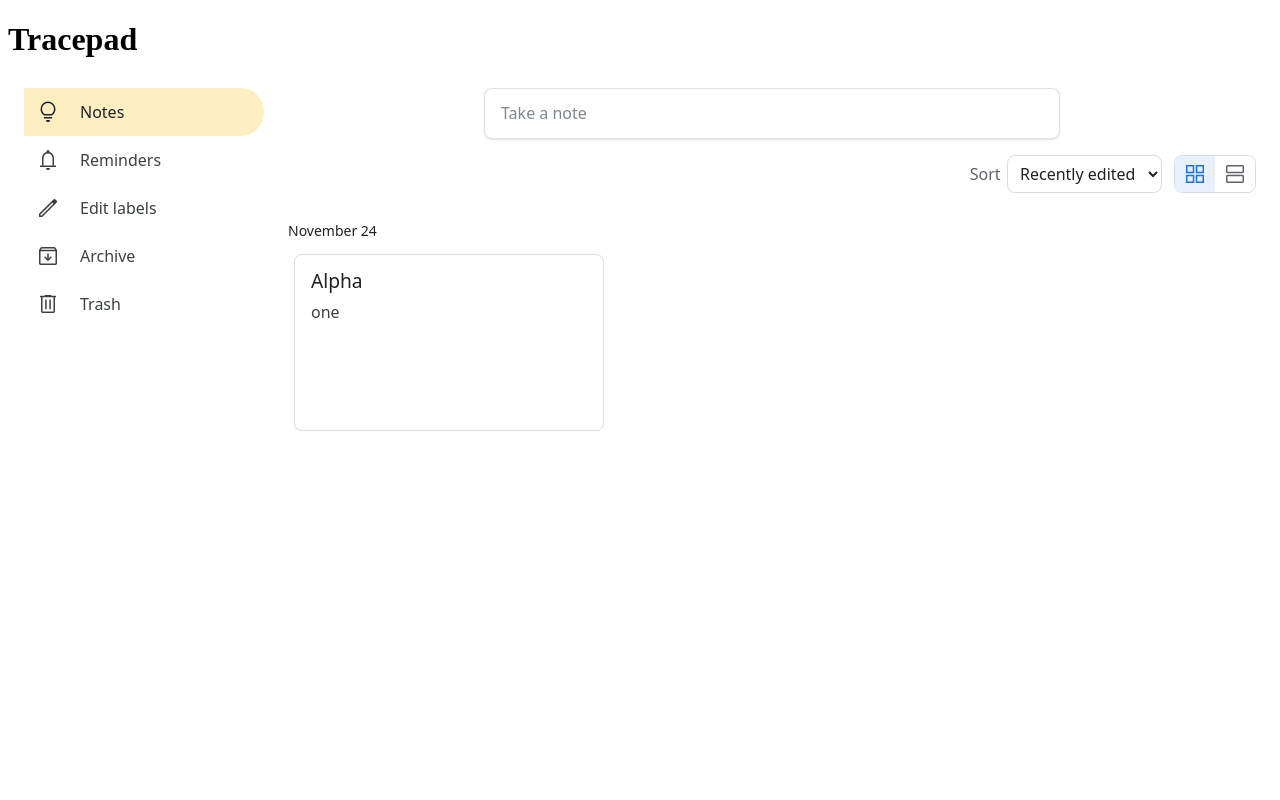
Test case: note ids stay off the page › renders the board without a note id in the HTML
This screenshot has width=1280, height=800.
Expected: the button "Take a note" is enabled, [484,88,1060,139]
Expected: the button with aria-label "Alpha, one" is shown, [294,254,604,431]
Step 1. Click the button named "List" → (1235, 174), box [1215,156,1255,192]
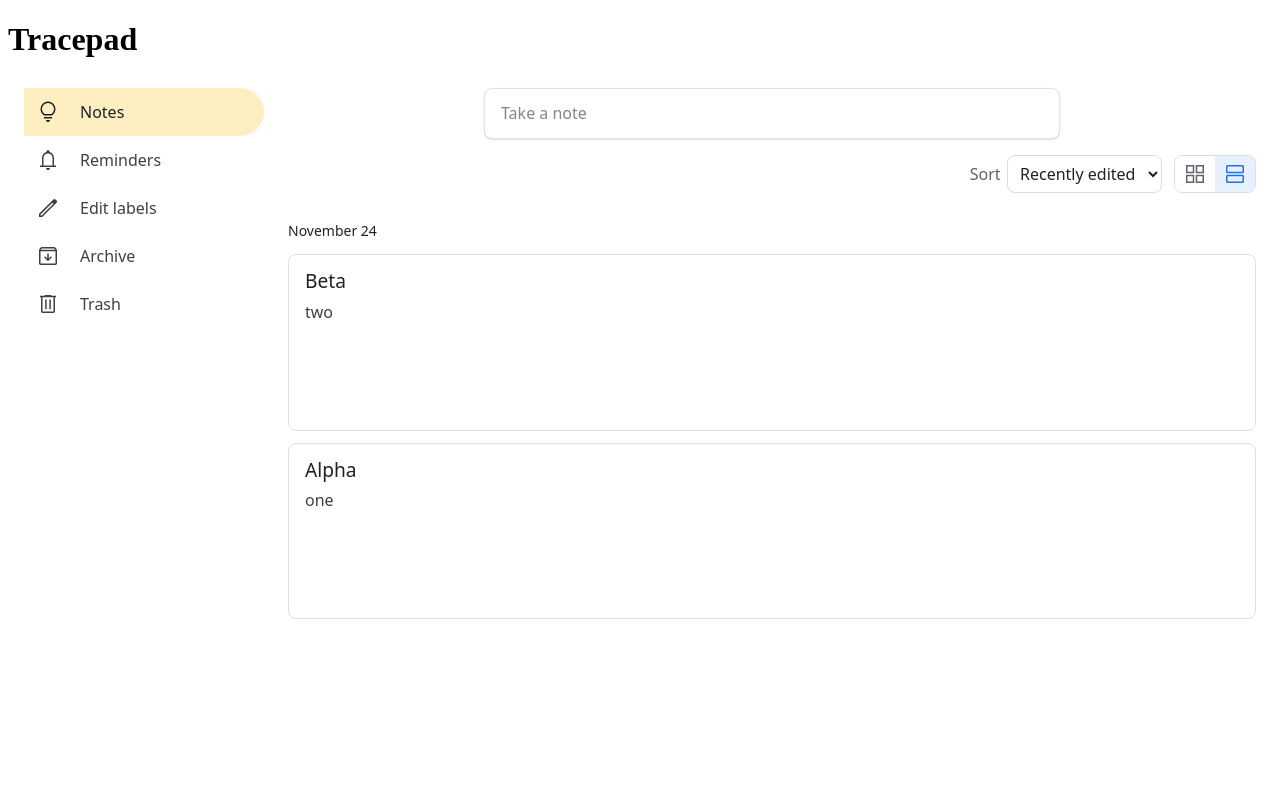
Now the list named "Board" has attribute data-layout="list", box [288,205,1256,619]
